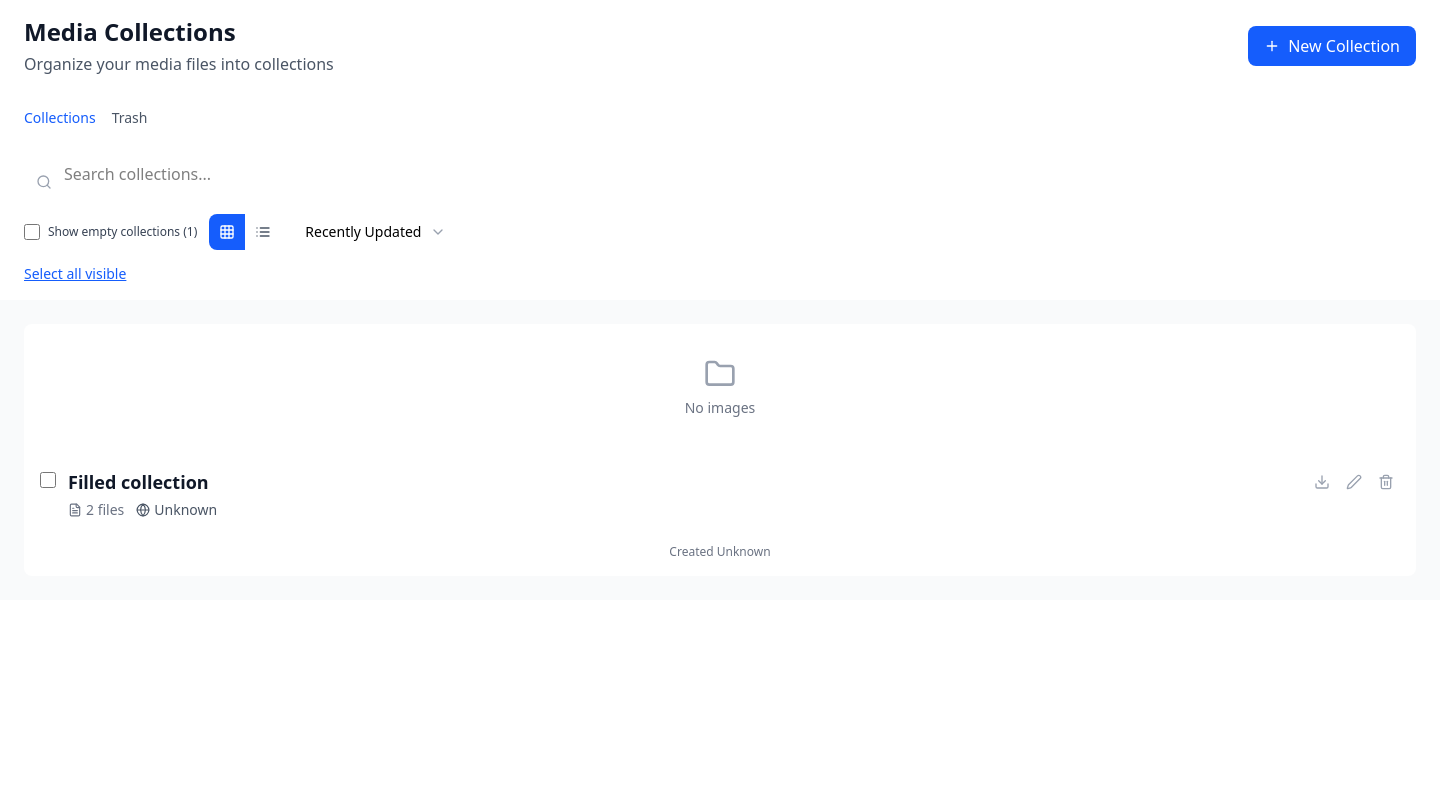
MediaCollectionManager › hides empty collections by default and lets editors reveal them
Expected: the heading "Filled collection" is shown, [68, 470, 209, 494]
Click the checkbox labelled "Show empty collections (1)".
click(32, 232)  # box [24, 224, 40, 240]
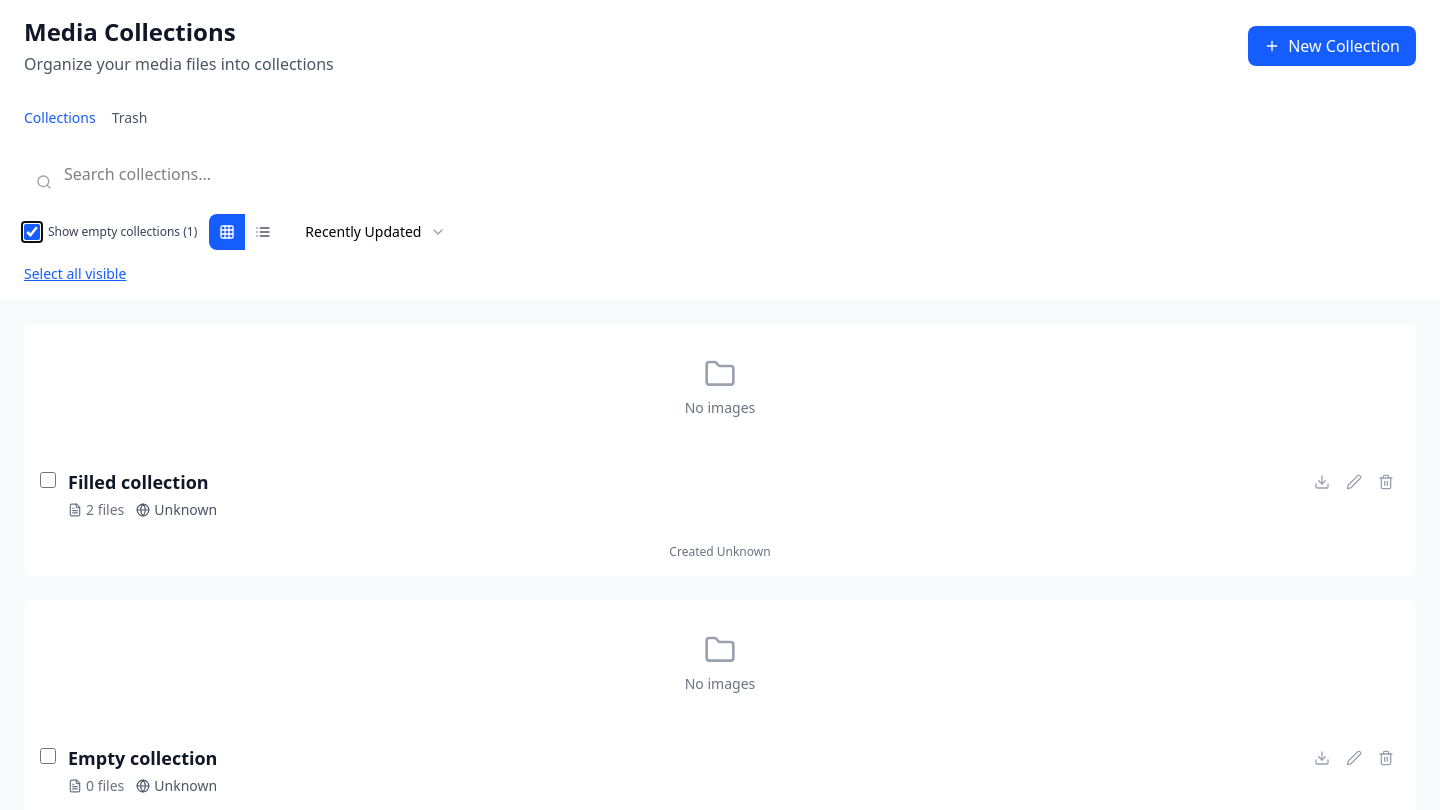
Now the heading "Empty collection" is shown, box [68, 746, 217, 770]
